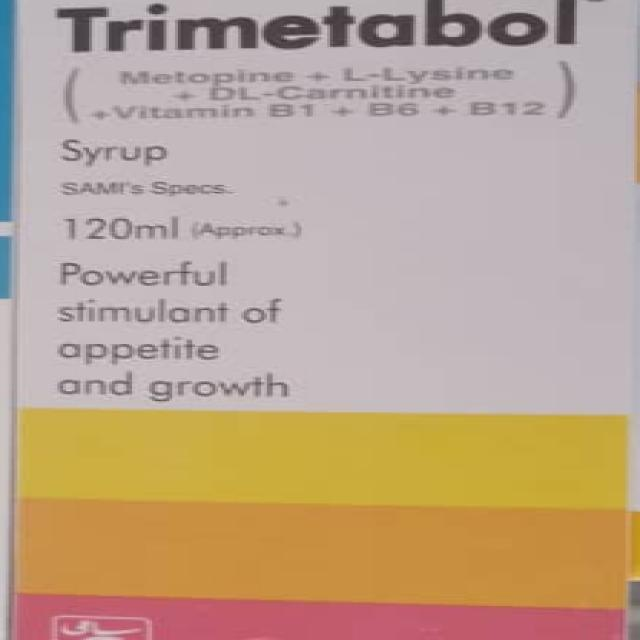drug-name: (51, 0, 582, 52)
